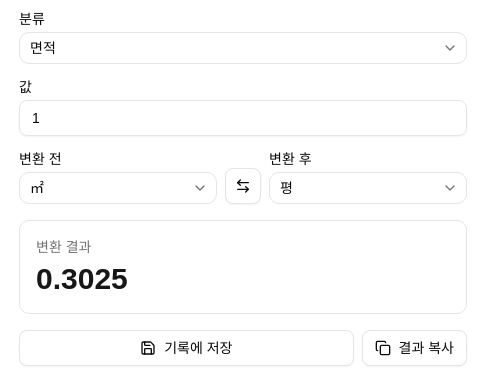
UnitCalculator › recalculates the result as the value changes
Replace the text in the field labelled "값" with "10" at {"x": 243, "y": 118}, box [19,100,467,136]
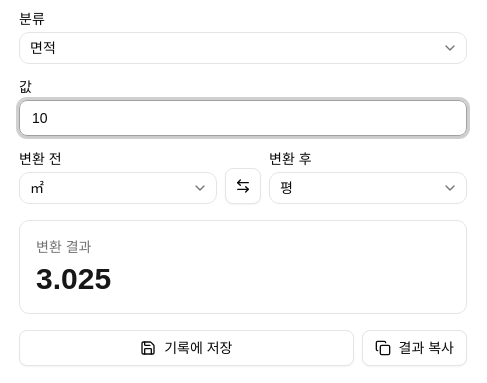
Now the text "3.025" is shown, box [36,262,111,295]
